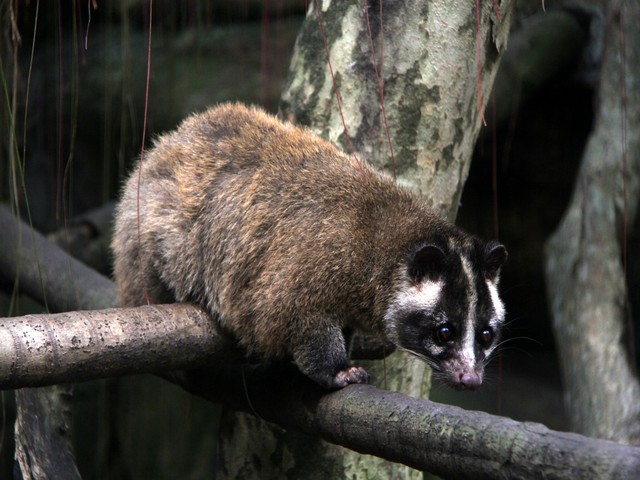civet: (108, 98, 514, 394)
